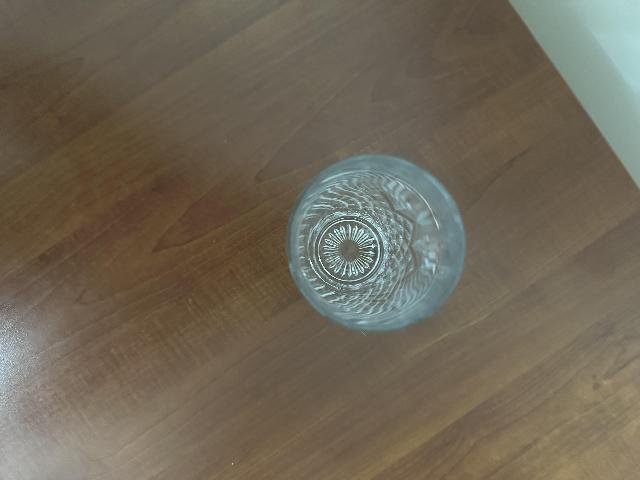Cam: (277, 150, 470, 336)
